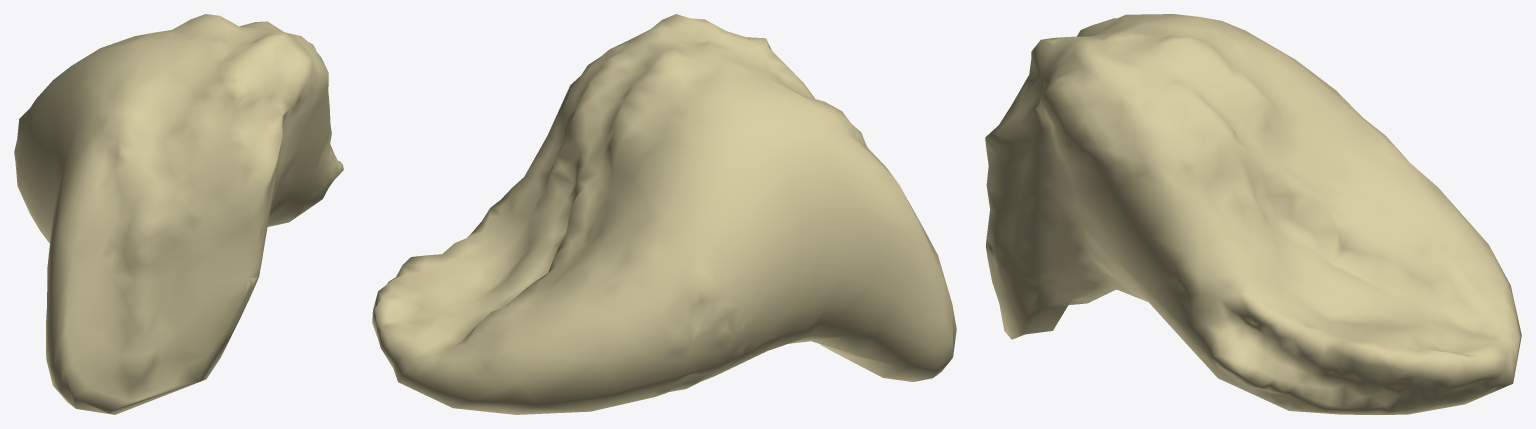
File: blanket.gltf
The picture shows the model from 3 angles, left to right: view 1: azimuth 30°, elevation 25°; view 2: azimuth 150°, elevation 25°; view 3: azimuth 270°, elevation 25°; orthographic projection. The views are drawn at different scales.
Parts seen in each view (by area): view 1: Sphere.001; view 2: Sphere.001; view 3: Sphere.001.
Boxes of the visible parts, box(x1,y1,x2,y2) form: Sphere.001: box(14, 14, 343, 414); Sphere.001: box(372, 14, 956, 414); Sphere.001: box(985, 14, 1521, 414).
Size of the model in its own units: 2.35 by 1.82 by 2.37.
